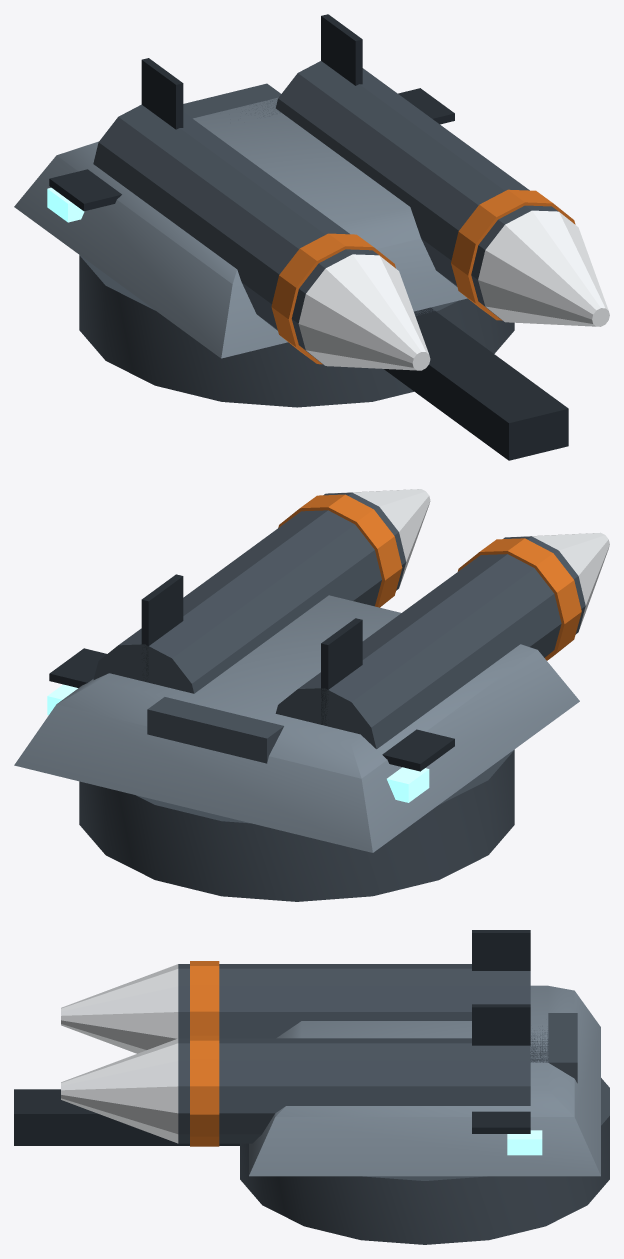
Rendered from arena_weapon_missile.glb.
The picture shows the model from 3 angles, top to bottom: view 1: azimuth 30°, elevation 25°; view 2: azimuth 150°, elevation 25°; view 3: azimuth 270°, elevation 25°; orthographic projection. The views are drawn at different scales.
Visible parts, largest first — view 1: yaw_box, canister_0_body, canister_1_body, base, rail_beam, canister_0_nose, canister_1_nose, canister_0_fin, canister_1_band, canister_0_band, canister_1_fin, rail_arm (+1 smaller); view 2: yaw_box, base, canister_0_body, canister_1_body, rail_arm, canister_0_fin, canister_1_fin, canister_0_band, canister_1_band, canister_1_nose, canister_0_nose, yaw_team; view 3: yaw_box, canister_1_body, base, canister_0_body, canister_1_nose, canister_0_nose, rail_beam, canister_1_fin, canister_1_band, canister_0_fin, canister_0_band, rail_arm (+1 smaller).
Boxes of the visible parts, bbox=[...] form: yaw_box: bbox=[14, 97, 467, 358]; canister_0_body: bbox=[93, 104, 378, 364]; canister_1_body: bbox=[275, 61, 558, 319]; base: bbox=[79, 255, 514, 407]; rail_beam: bbox=[384, 307, 568, 460]; canister_0_nose: bbox=[298, 254, 430, 370]; canister_1_nose: bbox=[478, 210, 609, 326]; canister_0_fin: bbox=[49, 58, 183, 211]; canister_1_band: bbox=[451, 189, 575, 320]; canister_0_band: bbox=[271, 233, 395, 364]; canister_1_fin: bbox=[321, 14, 454, 124]; rail_arm: bbox=[183, 83, 280, 118]; yaw_box: bbox=[14, 595, 579, 852]; base: bbox=[79, 749, 514, 901]; canister_0_body: bbox=[275, 536, 585, 749]; canister_1_body: bbox=[93, 492, 406, 693]; rail_arm: bbox=[147, 697, 283, 763]; canister_0_fin: bbox=[321, 618, 454, 771]; canister_1_fin: bbox=[49, 574, 183, 687]; canister_0_band: bbox=[457, 538, 581, 660]; canister_1_band: bbox=[278, 494, 402, 607]; canister_1_nose: bbox=[335, 489, 430, 585]; canister_0_nose: bbox=[510, 532, 609, 630]; yaw_team: bbox=[47, 684, 429, 802]; yaw_box: bbox=[249, 985, 600, 1176]; canister_1_body: bbox=[178, 1038, 530, 1143]; base: bbox=[240, 1078, 609, 1244]; canister_0_body: bbox=[178, 964, 530, 1038]; canister_1_nose: bbox=[61, 1038, 178, 1143]; canister_0_nose: bbox=[61, 964, 178, 1053]; rail_beam: bbox=[14, 1089, 239, 1145]; canister_1_fin: bbox=[472, 1004, 530, 1133]; canister_1_band: bbox=[190, 1035, 219, 1146]; canister_0_fin: bbox=[472, 930, 530, 970]; canister_0_band: bbox=[190, 961, 219, 1035]; rail_arm: bbox=[530, 1013, 577, 1083].
Size of the model in its own units: 6.4 by 3.7 by 10.15.
